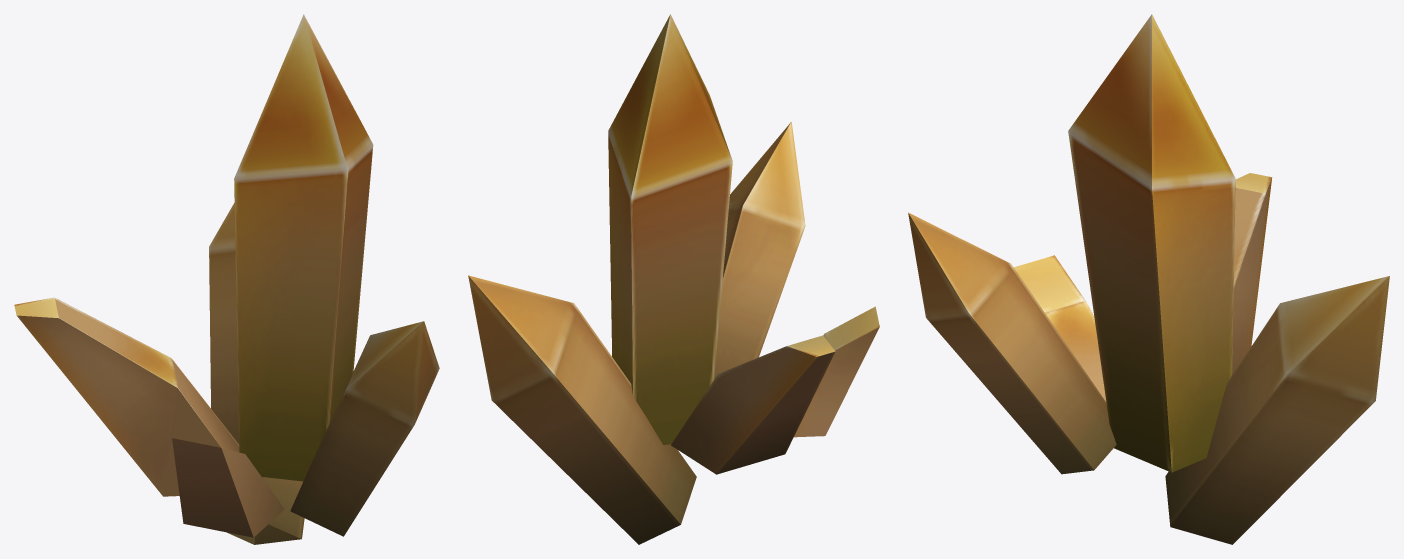
File: FB5_shuijing.FBX
3 views of the same model, side by side, from view 1: azimuth 30°, elevation 25°; view 2: azimuth 150°, elevation 25°; view 3: azimuth 270°, elevation 25° (orthographic). The views are drawn at different scales.
Parts seen in each view (by area): view 1: FB5_shuijing_001, FB5_shuijing_004, FB5_shuijing_003, FB5_shuijing_002, FB5_shuijing_005; view 2: FB5_shuijing_001, FB5_shuijing_002, FB5_shuijing_003, FB5_shuijing_004, FB5_shuijing_005; view 3: FB5_shuijing_001, FB5_shuijing_002, FB5_shuijing_003, FB5_shuijing_004, FB5_shuijing_005.
Part boxes in pixels (x1,y1,x2,y2): FB5_shuijing_001: [234, 14, 373, 481]; FB5_shuijing_004: [14, 297, 239, 496]; FB5_shuijing_003: [290, 321, 439, 536]; FB5_shuijing_002: [209, 203, 304, 544]; FB5_shuijing_005: [172, 438, 284, 537]; FB5_shuijing_001: [608, 14, 732, 444]; FB5_shuijing_002: [468, 275, 696, 544]; FB5_shuijing_003: [714, 122, 805, 378]; FB5_shuijing_004: [671, 335, 835, 474]; FB5_shuijing_005: [794, 306, 879, 437]; FB5_shuijing_001: [1068, 14, 1235, 472]; FB5_shuijing_002: [1165, 276, 1389, 544]; FB5_shuijing_003: [908, 212, 1116, 474]; FB5_shuijing_004: [1232, 173, 1272, 375]; FB5_shuijing_005: [1014, 255, 1106, 401].
Size of the model in its own units: 197 by 310 by 253.
1 material, 1 textured.
